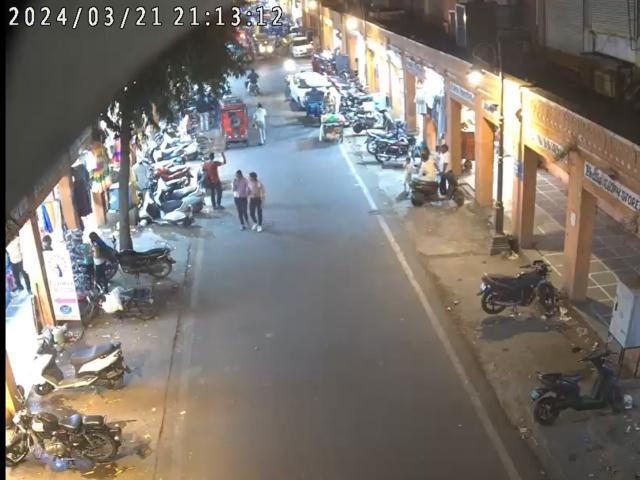motorbike: (6, 404, 123, 472), (477, 258, 560, 314), (104, 243, 176, 281), (86, 283, 154, 322)
person: (232, 169, 264, 232), (206, 151, 229, 210), (86, 229, 105, 281)
scooty: (537, 345, 623, 424), (26, 337, 132, 392), (408, 170, 467, 211), (155, 177, 205, 215), (140, 199, 192, 230)
